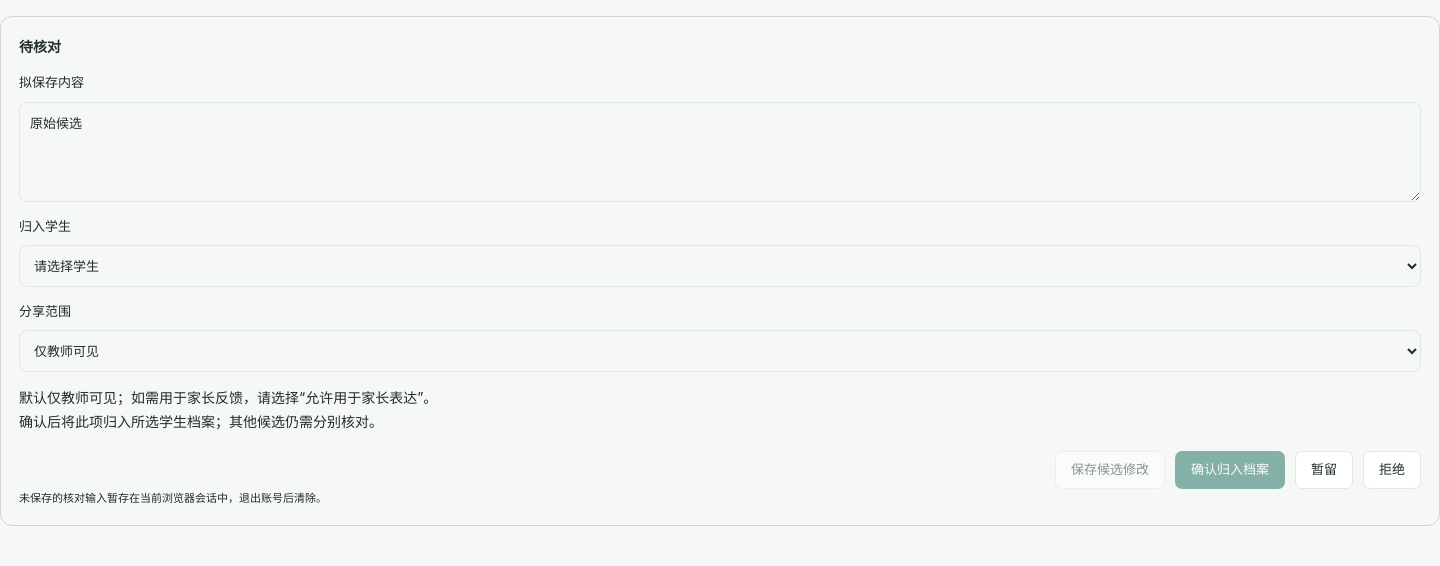
Scenario: candidate drafts and confirmation recovery in synthetic sessions › allows correcting a first-attempt 400 rejection and selecting a different student
The image size is (1440, 566).
Select "小雨 · 五年级" in the dropdown labelled "归入学生": (720, 266) [19,245,1421,287]
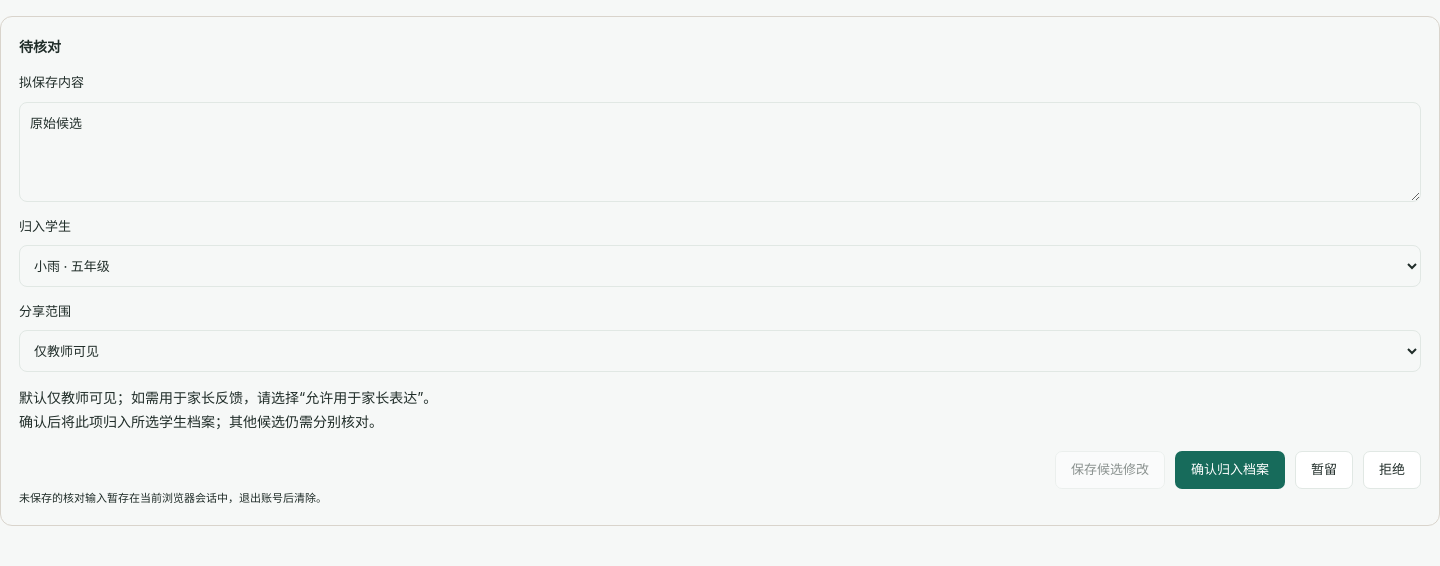
Click the button "确认归入档案": (1230, 470) [1175,451,1285,489]
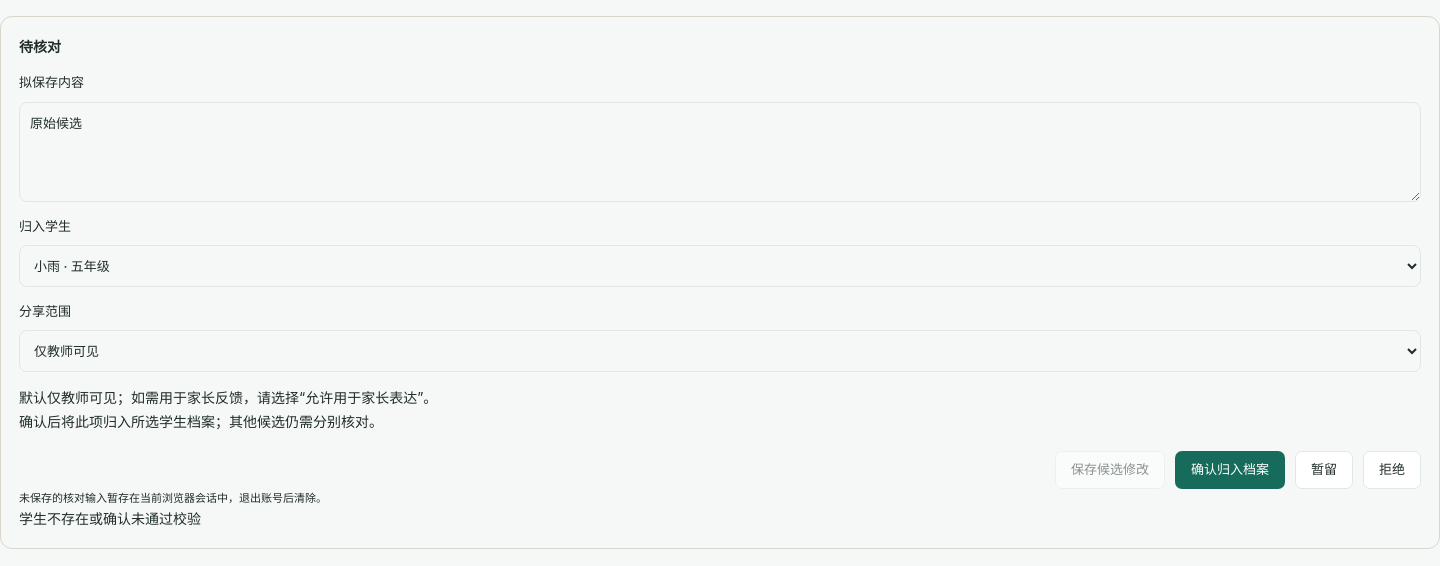
Expected: the text box labelled "拟保存内容" holds "原始候选", [19,102,1421,202]
Expected: the text "学生不存在或确认未通过校验" is shown, [19,510,201,527]
Select "小雨 · 初一" in the dropdown labelled "归入学生": (720, 266) [19,245,1421,287]
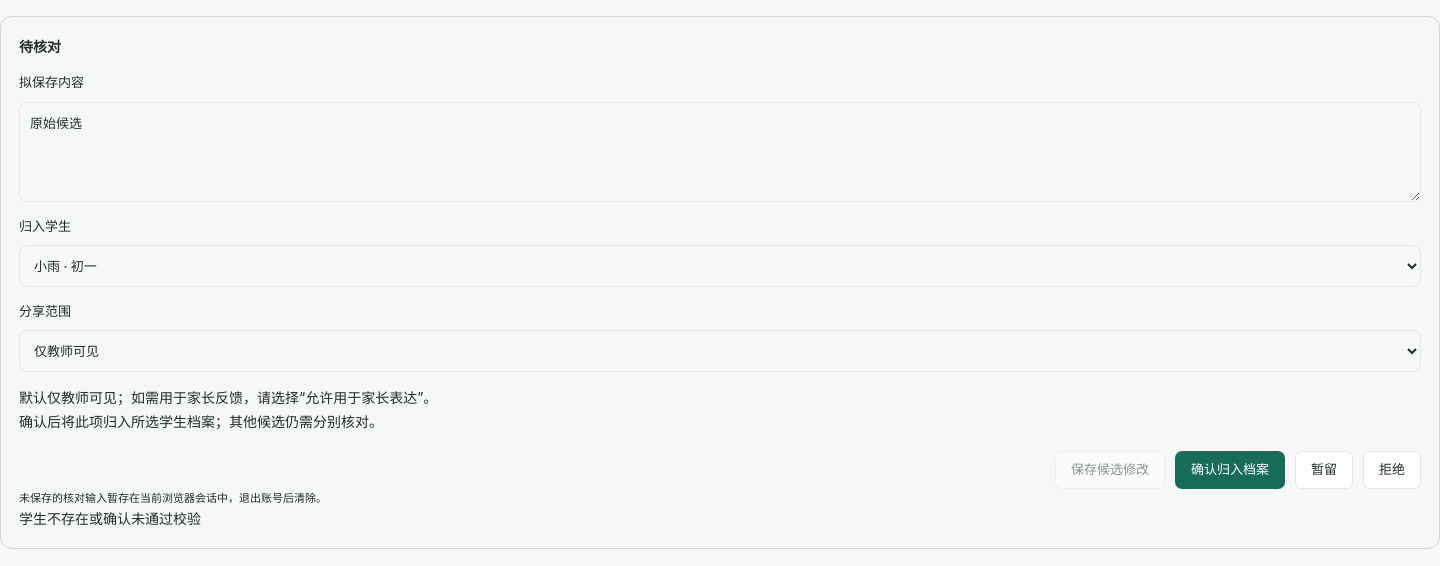
Click the button "确认归入档案": (1230, 470) [1175,451,1285,489]
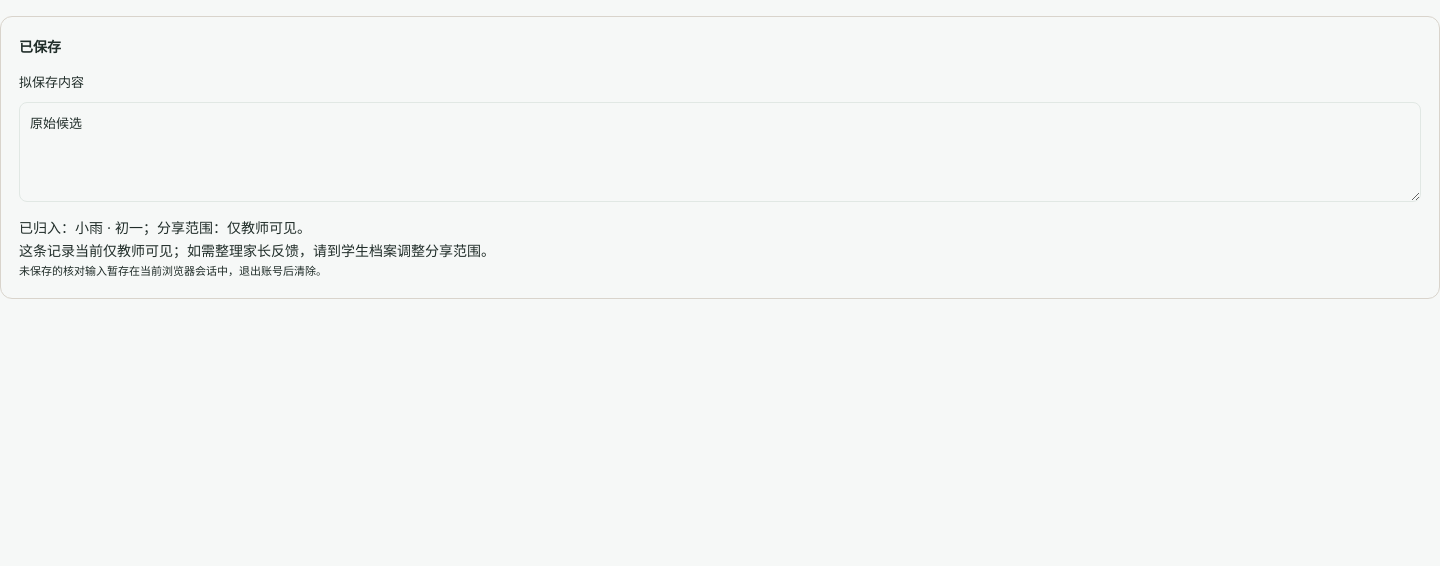
Expected: the text "已保存" is shown, [19,38,61,55]
